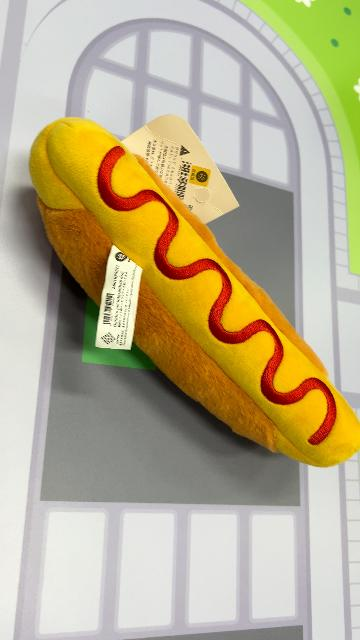hotdog: (29, 116, 359, 468)
